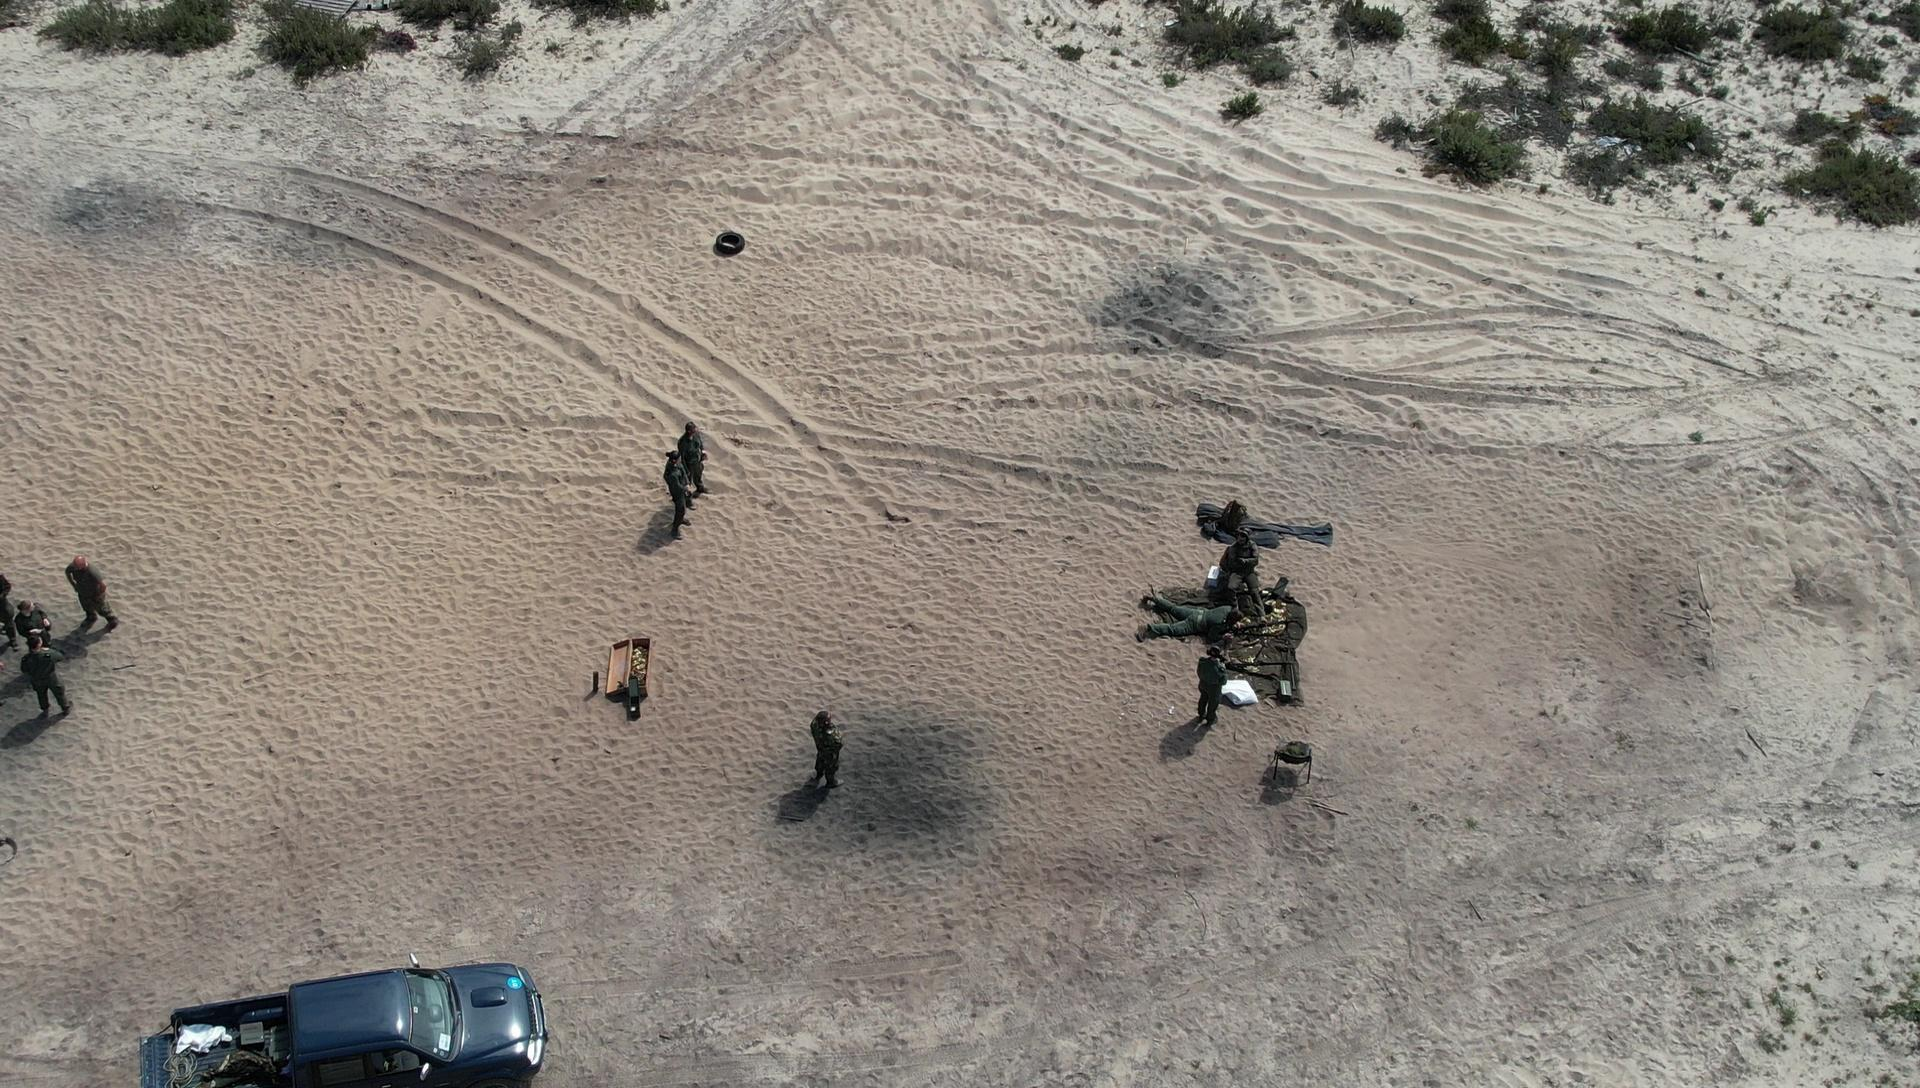Soldier: (1145, 582, 1270, 658), (786, 704, 853, 823), (51, 551, 125, 654), (659, 425, 715, 516), (662, 429, 708, 535), (1215, 539, 1265, 619), (1175, 655, 1211, 746)
